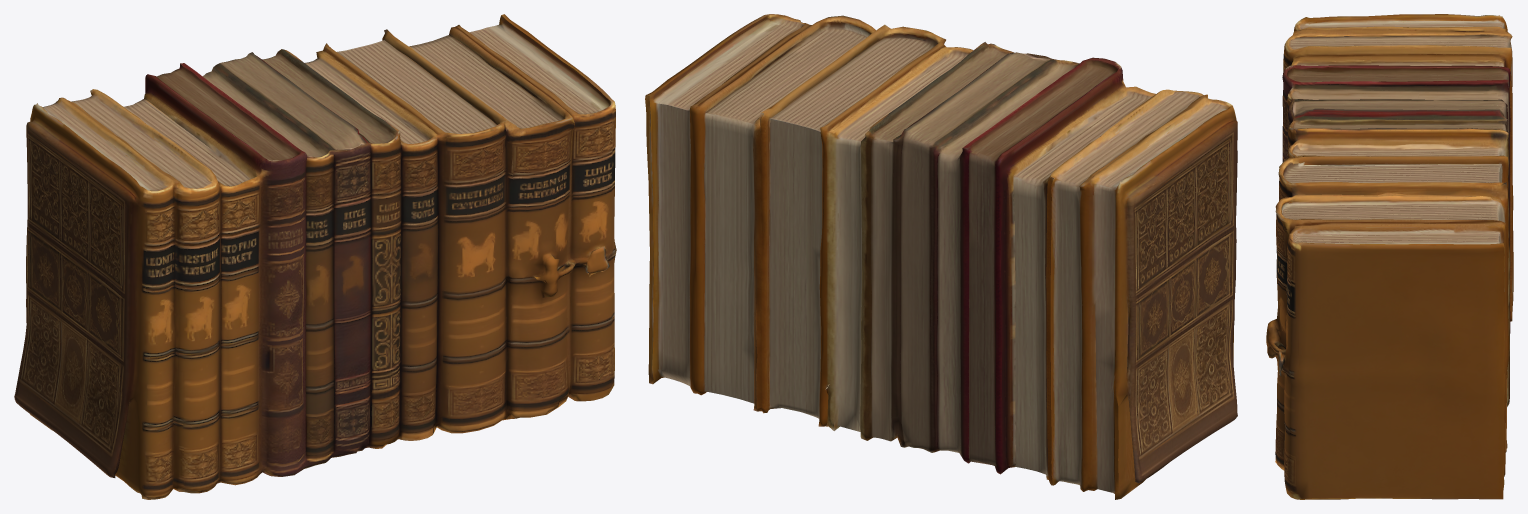
File: OldBooksRow.glb
3 renders of one model, left to right at view 1: azimuth 30°, elevation 25°; view 2: azimuth 150°, elevation 25°; view 3: azimuth 270°, elevation 25°, orthographic. The views are drawn at different scales.
Parts seen in each view (by area): view 1: Mesh_0; view 2: Mesh_0; view 3: Mesh_0.
Part boxes in pixels (x1,y1,x2,y2): Mesh_0: [14, 14, 616, 499]; Mesh_0: [645, 14, 1237, 499]; Mesh_0: [1266, 14, 1513, 499].
Size of the model in its own units: 1.91 by 1.17 by 0.9263.
1 material, 1 textured.
